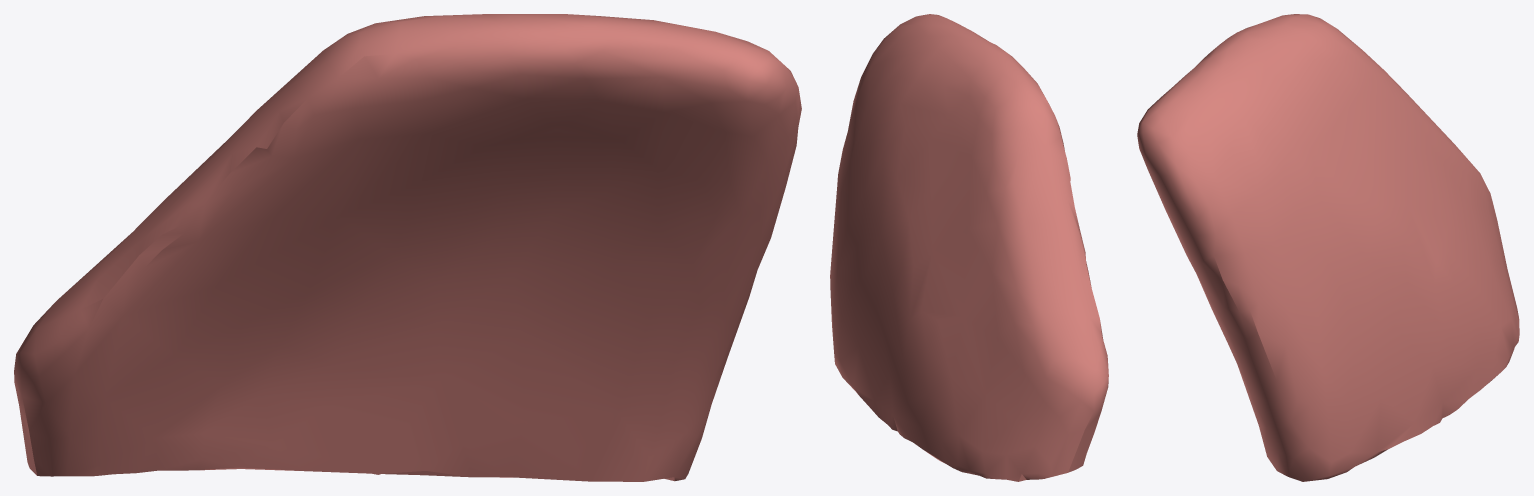
File: fma54145-f_mm2215.glb
3 renders of one model, left to right at view 1: azimuth 30°, elevation 25°; view 2: azimuth 150°, elevation 25°; view 3: azimuth 270°, elevation 25°, orthographic. The views are drawn at different scales.
Parts seen in each view (by area): view 1: FMA54145-F_MM2215; view 2: FMA54145-F_MM2215; view 3: FMA54145-F_MM2215.
Boxes of the visible parts, left/top/right/bottom form: FMA54145-F_MM2215: left=14, top=14, right=801, bottom=481; FMA54145-F_MM2215: left=830, top=14, right=1108, bottom=481; FMA54145-F_MM2215: left=1137, top=14, right=1519, bottom=481.
Bounding box in the file's own units: 0.00647 × 0.00557 × 0.00513.
